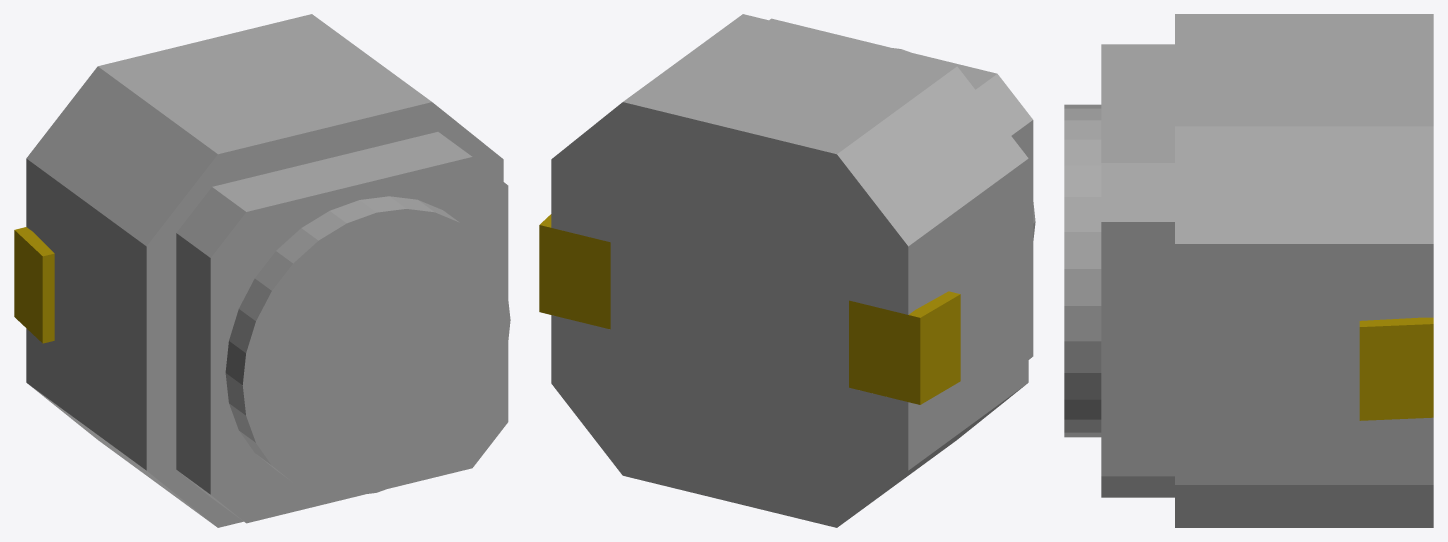
File: SW_Push_1TS009xxxx-xxxx-xxxx_6x6x5mm.glb
The picture shows the model from 3 angles, left to right: view 1: azimuth 30°, elevation 25°; view 2: azimuth 150°, elevation 25°; view 3: azimuth 270°, elevation 25°; orthographic projection. The views are drawn at different scales.
Parts seen in each view (by area): view 1: o64_IndexedFaceSet, o20_IndexedFaceSet; view 2: o64_IndexedFaceSet, o20_IndexedFaceSet, o35_IndexedFaceSet; view 3: o64_IndexedFaceSet, o35_IndexedFaceSet.
Part boxes in pixels (box(x1,y1,x2,y2)): o64_IndexedFaceSet: box(26, 14, 510, 527); o20_IndexedFaceSet: box(14, 227, 54, 343); o64_IndexedFaceSet: box(551, 14, 1035, 527); o20_IndexedFaceSet: box(849, 291, 960, 404); o35_IndexedFaceSet: box(539, 214, 610, 329); o64_IndexedFaceSet: box(1064, 14, 1433, 527); o35_IndexedFaceSet: box(1359, 317, 1433, 420).
Size of the model in its own units: 2.6 by 2.36 by 1.97.
